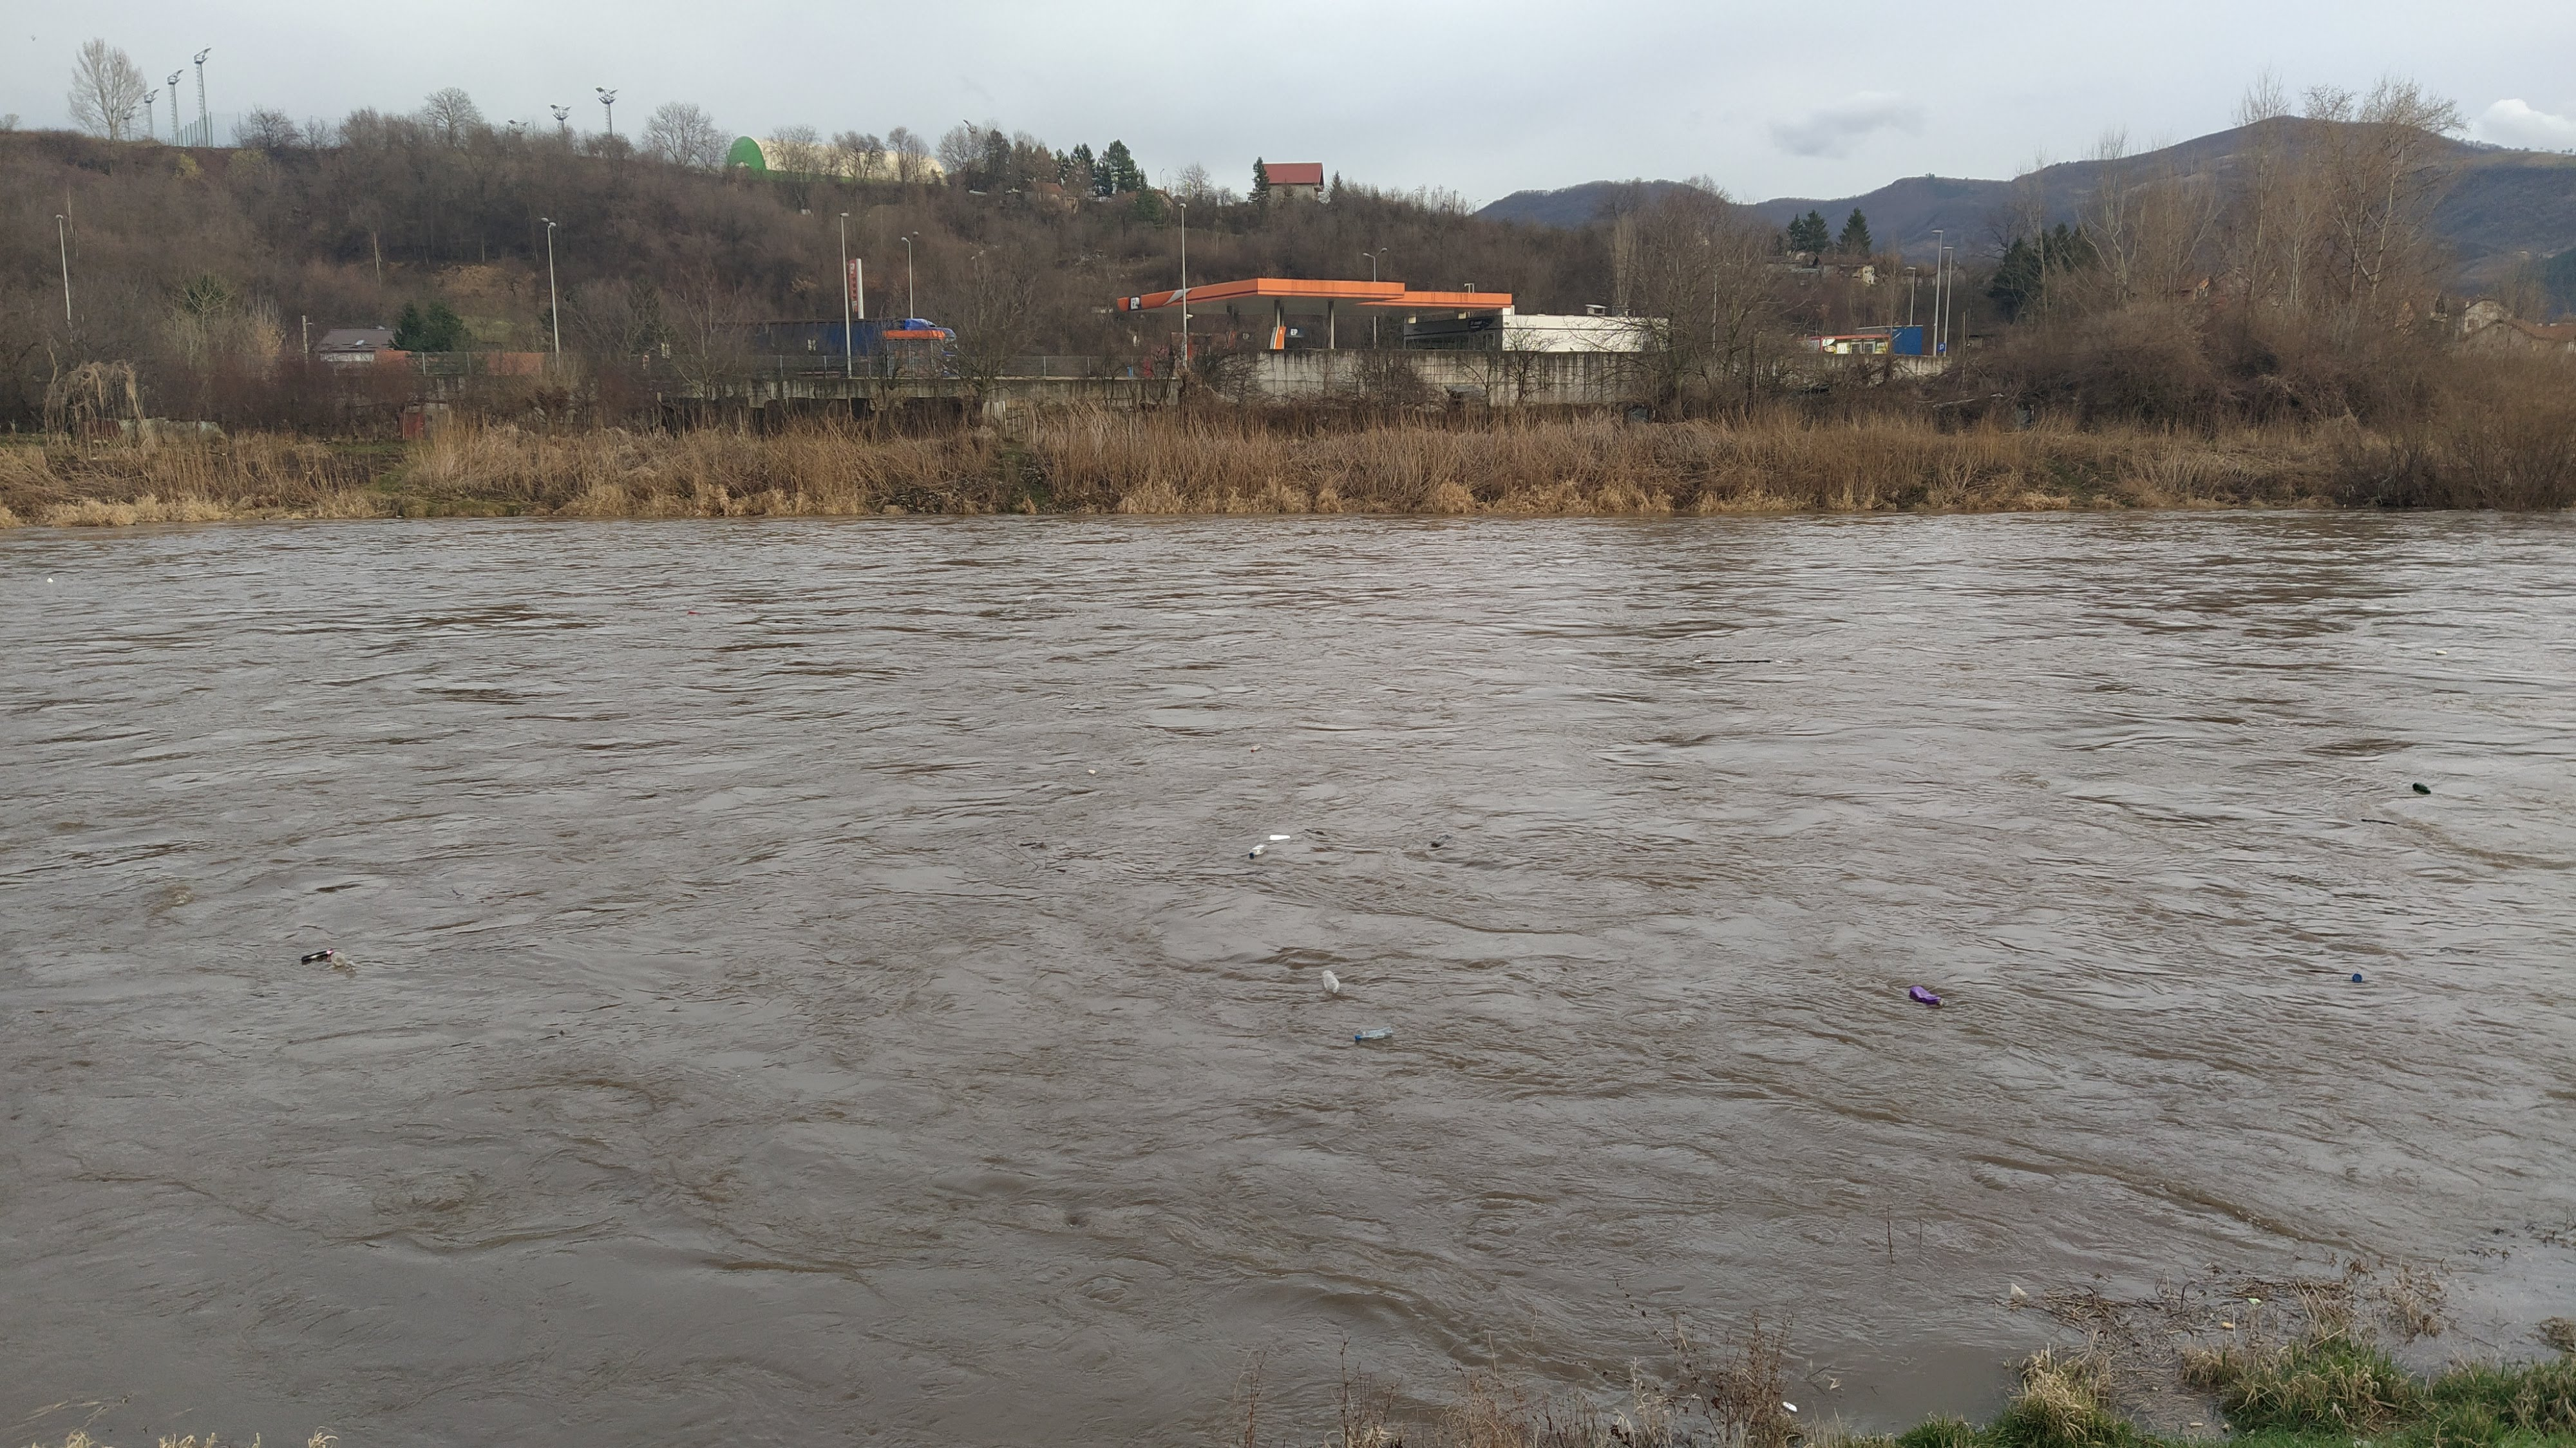Plastic Bottle: (1909, 984, 1944, 1004), (1355, 1027, 1392, 1041), (1322, 970, 1339, 993), (301, 949, 331, 961), (2010, 1282, 2028, 1299), (1249, 844, 1269, 859), (1433, 834, 1451, 846), (2413, 782, 2431, 793), (331, 952, 345, 965), (345, 961, 356, 972), (1269, 834, 1290, 839), (2351, 974, 2364, 982), (1251, 743, 1260, 752), (2436, 650, 2445, 655), (686, 611, 699, 614), (1088, 768, 1093, 774), (1026, 595, 1031, 600), (48, 577, 51, 582)
